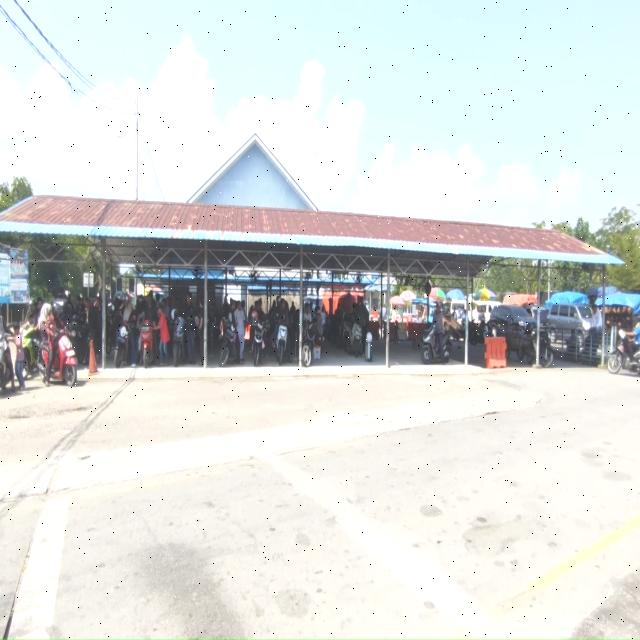Golongan II: (38, 329, 78, 386), (516, 323, 554, 368), (607, 329, 640, 374), (422, 324, 452, 364), (66, 316, 89, 364), (20, 326, 38, 378), (219, 319, 237, 367), (252, 319, 268, 366), (114, 321, 130, 368), (139, 318, 154, 368), (302, 320, 317, 368), (0, 334, 12, 391), (173, 315, 185, 367), (275, 324, 289, 365), (348, 322, 363, 357), (339, 318, 354, 353), (468, 321, 487, 345)
